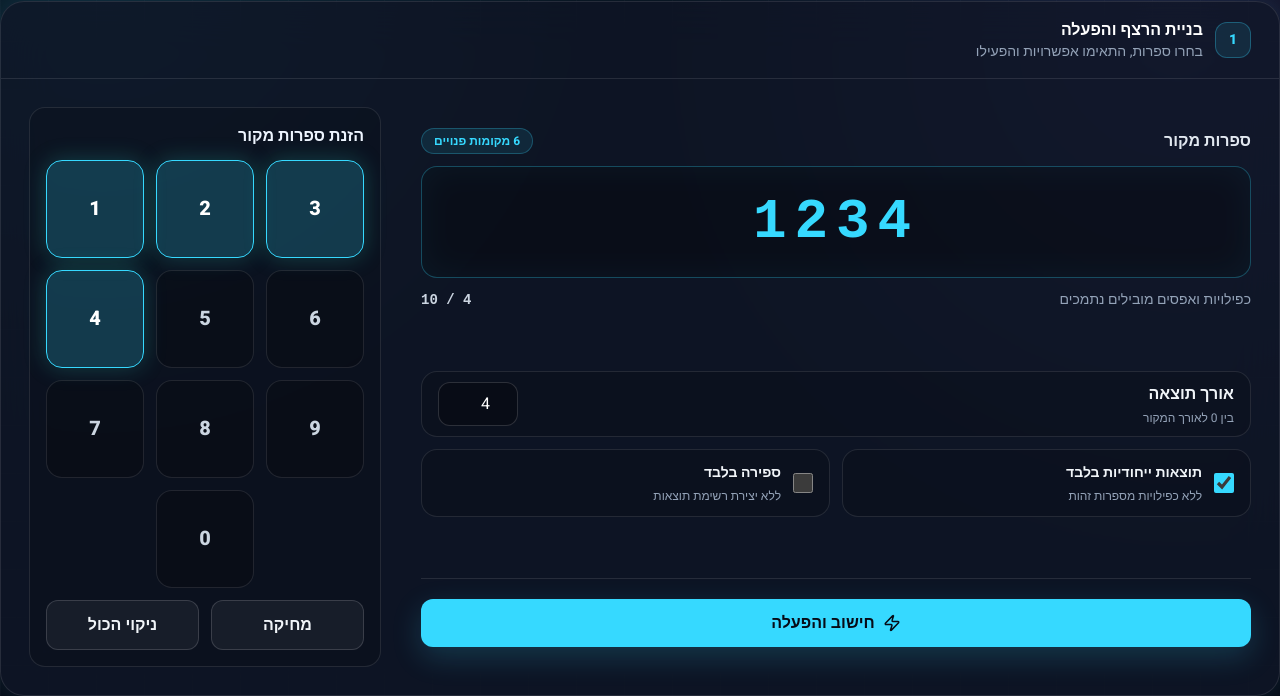
Test: PermutationPanel › generates results from the interaction card CTA after selecting digits
The width and height of the screenshot is (1280, 696).
(page scrolled)
Step 1. Click the button with aria-label "ניקוי כל הספרות" → click(122, 625), box x1=46 y1=600 x2=199 y2=650
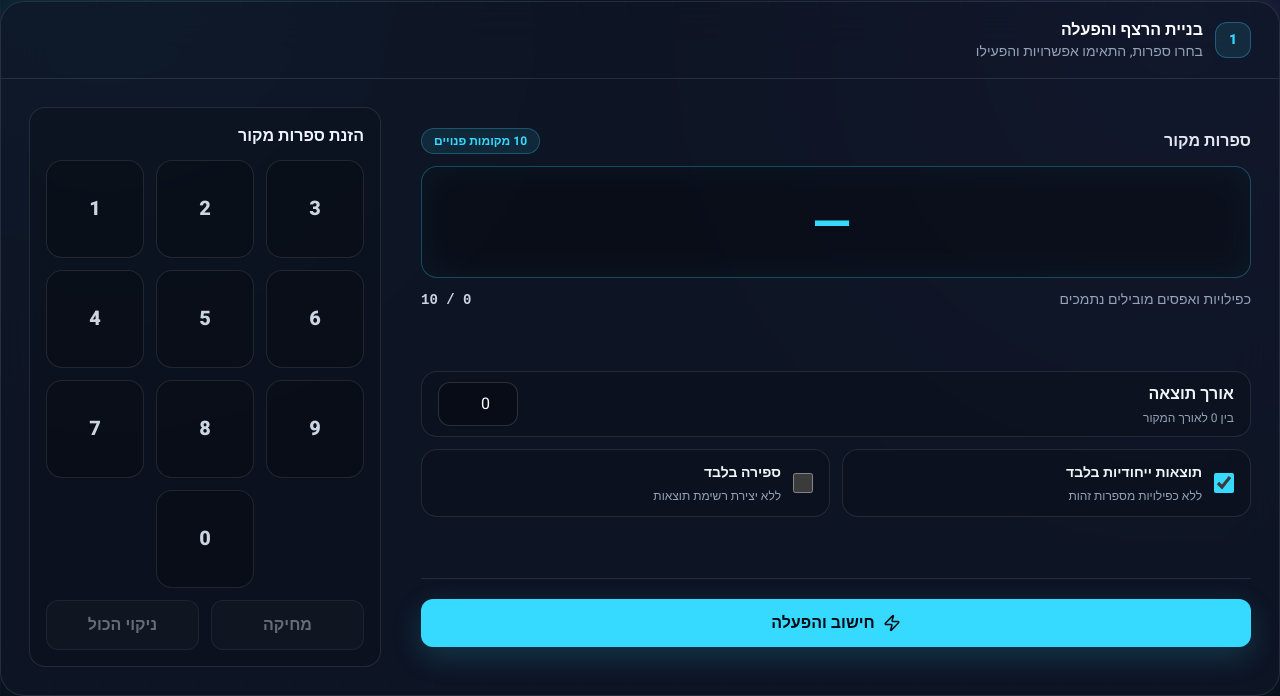
Step 2. Click the button "1" → click(95, 209), box x1=46 y1=160 x2=144 y2=258
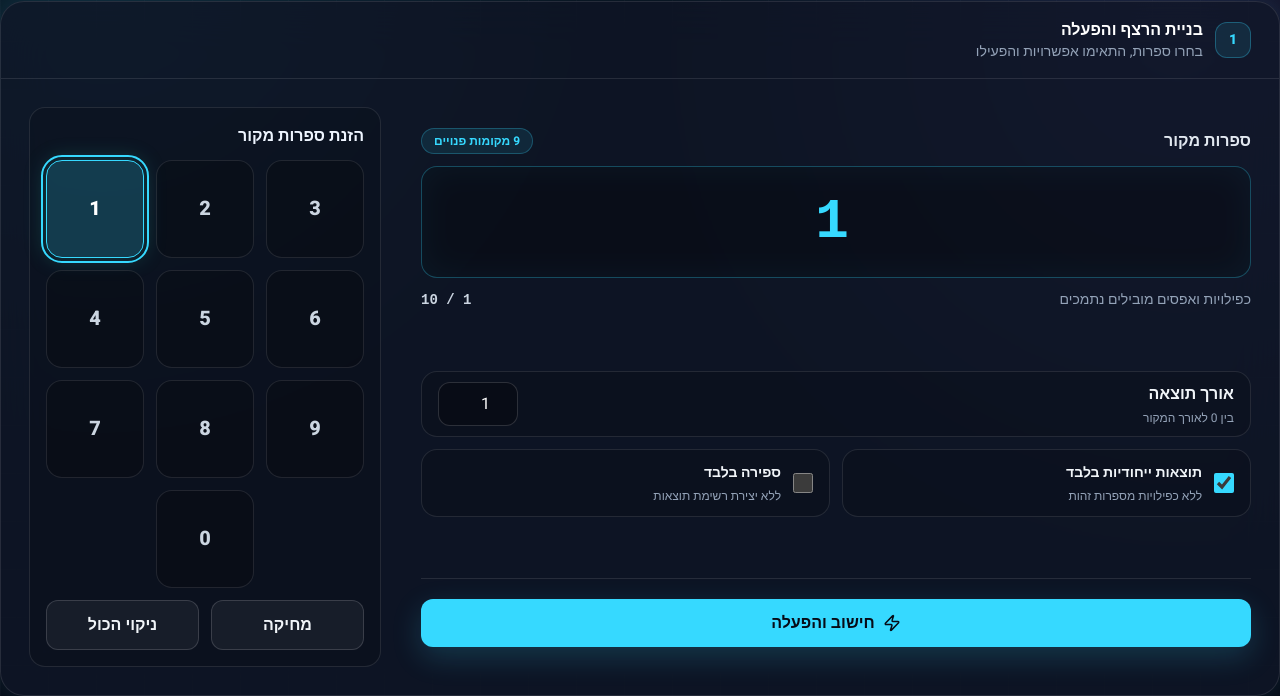
Step 3. Click the button "2" → click(205, 209), box x1=156 y1=160 x2=254 y2=258
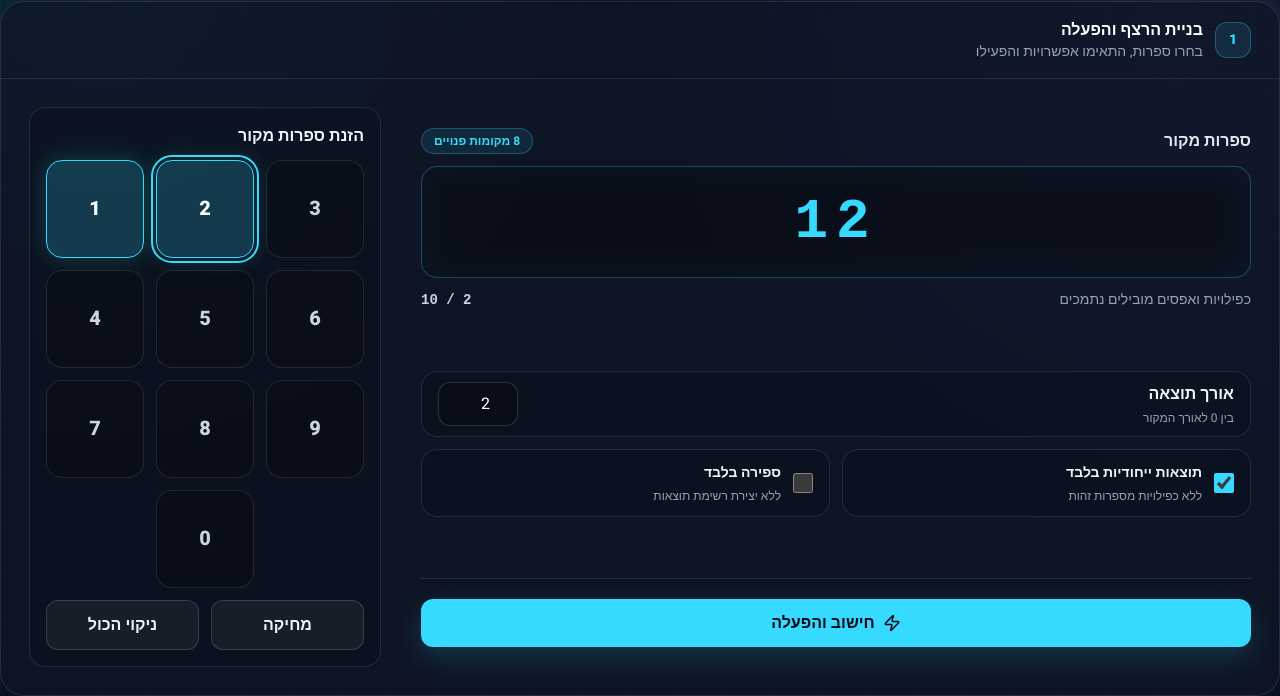
Step 4. Click the button "3" → click(315, 209), box x1=266 y1=160 x2=364 y2=258
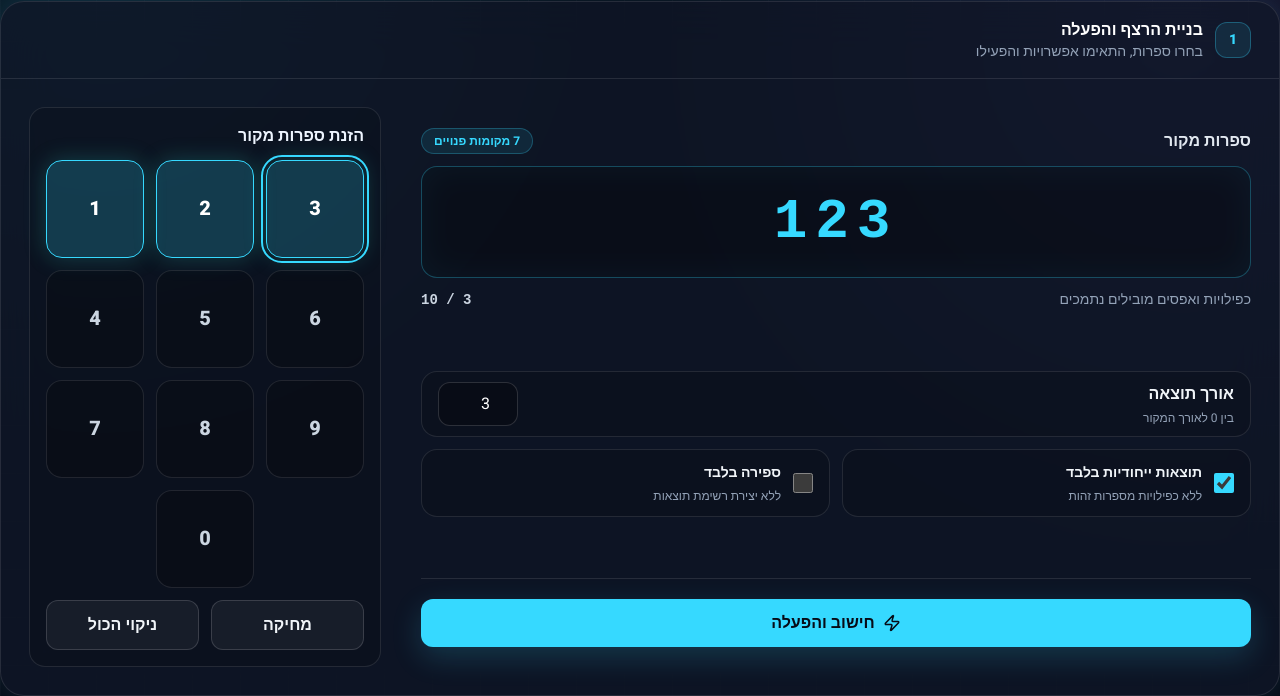
Step 5. Click the button "חישוב והפעלה" → click(836, 622), box x1=421 y1=598 x2=1251 y2=646
(page scrolled)
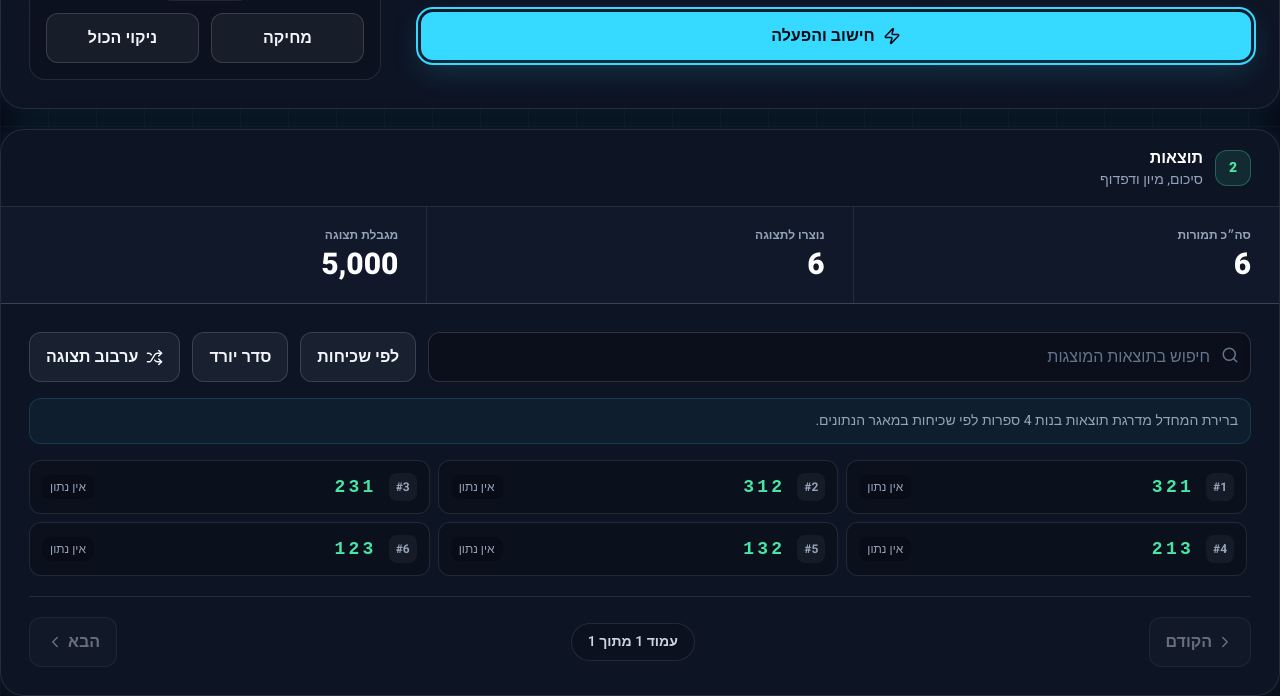
Result: the text "321" is shown at x1=1152 y1=473 x2=1194 y2=501
